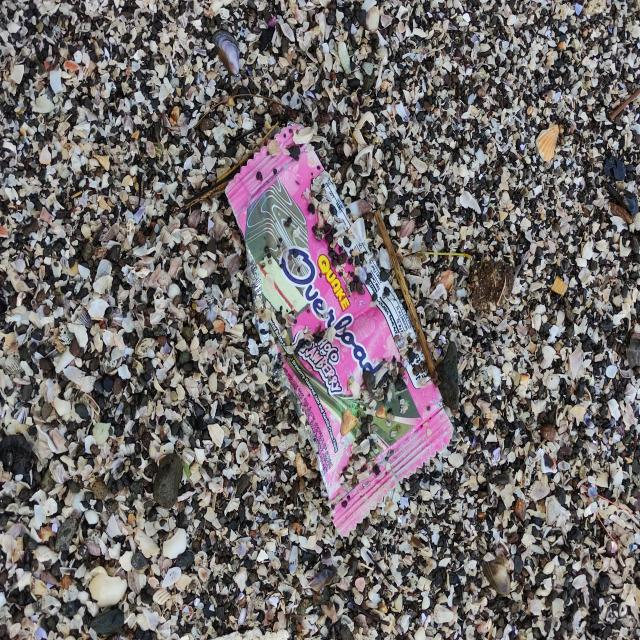plastic_waste: (229, 121, 462, 531)
